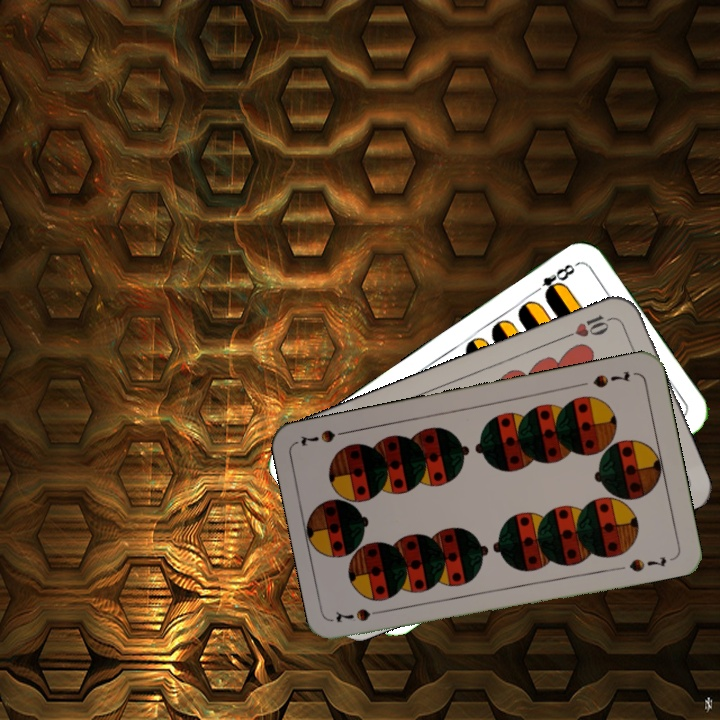E8: (528, 259, 581, 301)
H10: (561, 310, 618, 341)
S7: (332, 604, 391, 625), (589, 367, 633, 391)
